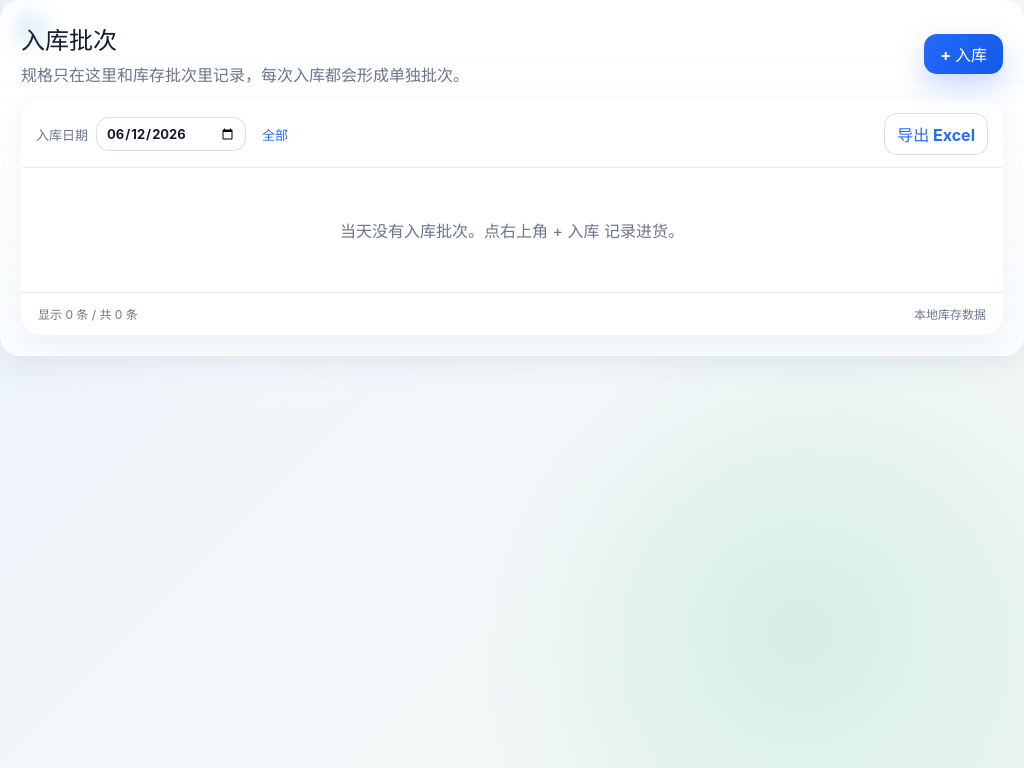
Test: PurchasesPage › records a manually typed purchase size
Later steps or results of the test are not shown.
Click the button "+ 入库". click: (964, 54)
box: [924,34,1003,74]
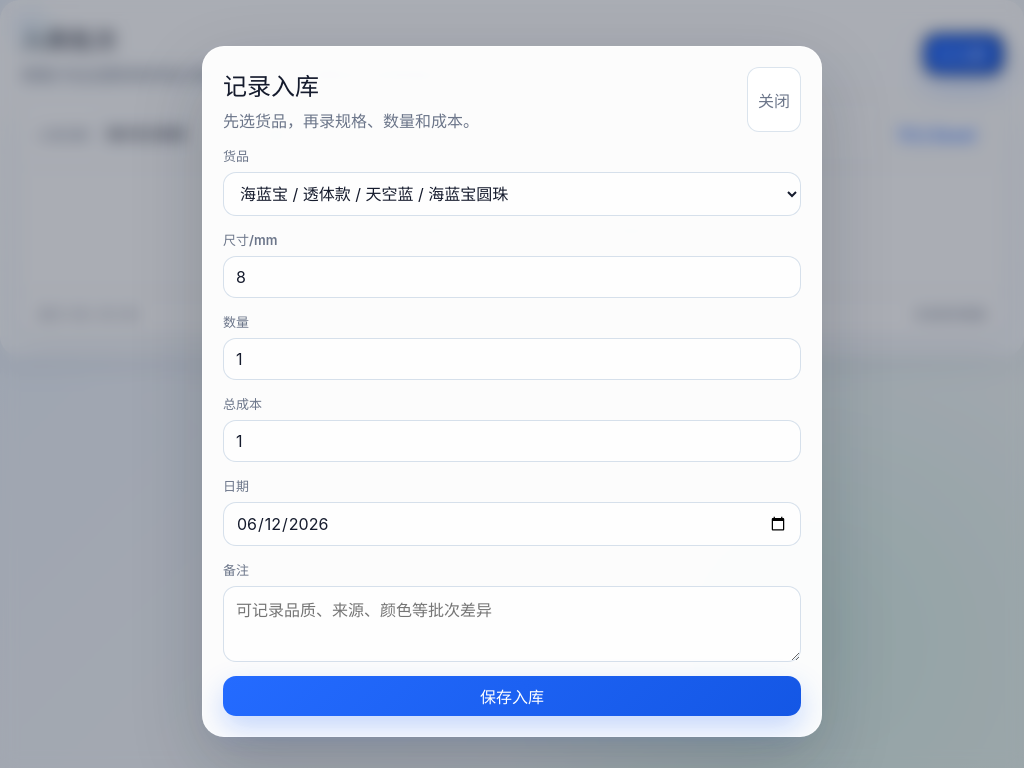
Check: the dropdown labelled "货品" shows "海蓝宝 / 透体款 / 天空蓝 / 海蓝宝圆珠", box [223,172,801,216]
Check: the field labelled "尺寸/mm" holds "8", box [223,256,801,298]
